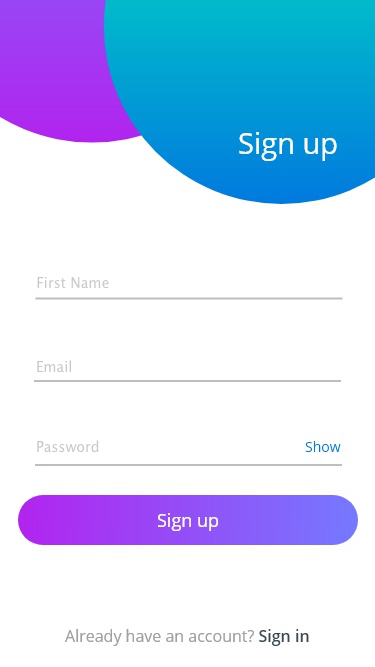EditText: (35, 439, 342, 467), (35, 277, 343, 301), (34, 360, 342, 383)
Text: (65, 628, 310, 647), (238, 132, 338, 163), (38, 277, 110, 289), (37, 440, 99, 453), (37, 360, 72, 373), (305, 441, 341, 453)
TextButton: (18, 494, 359, 546)
